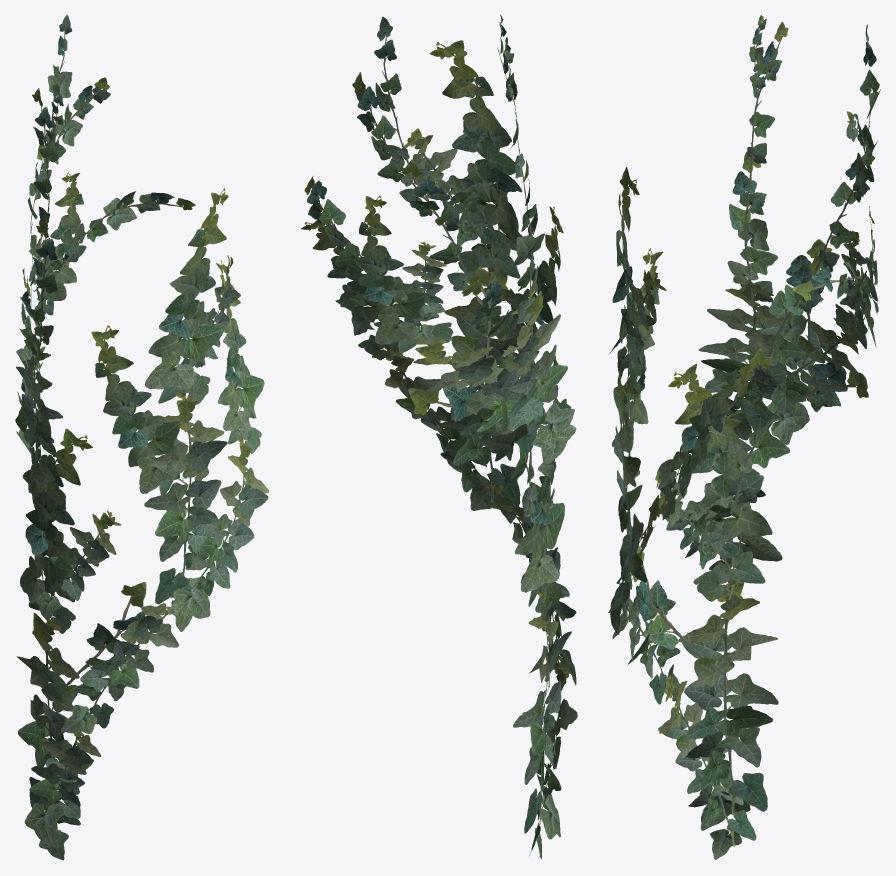
File: sm_Ivy_01_08.fbx
3 views of the same model, side by side, from view 1: azimuth 30°, elevation 25°; view 2: azimuth 150°, elevation 25°; view 3: azimuth 270°, elevation 25° (orthographic). The views are drawn at different scales.
Parts seen in each view (by area): view 1: sm_Ivy_01_08; view 2: sm_Ivy_01_08; view 3: sm_Ivy_01_08.
Part boxes in pixels (bbox=[...]): sm_Ivy_01_08: bbox=[15, 14, 269, 860]; sm_Ivy_01_08: bbox=[301, 14, 577, 859]; sm_Ivy_01_08: bbox=[608, 15, 880, 859].
Bounding box in the file's own units: 56.58 × 54.05 × 191.
